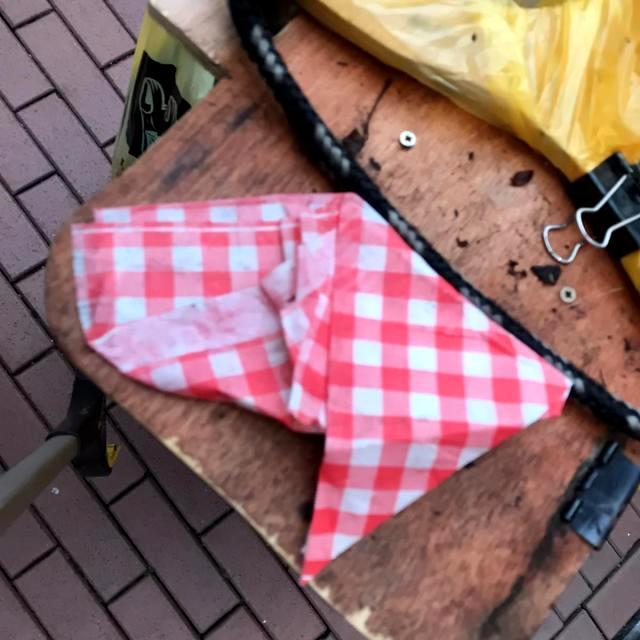Paper: (68, 189, 576, 589)
